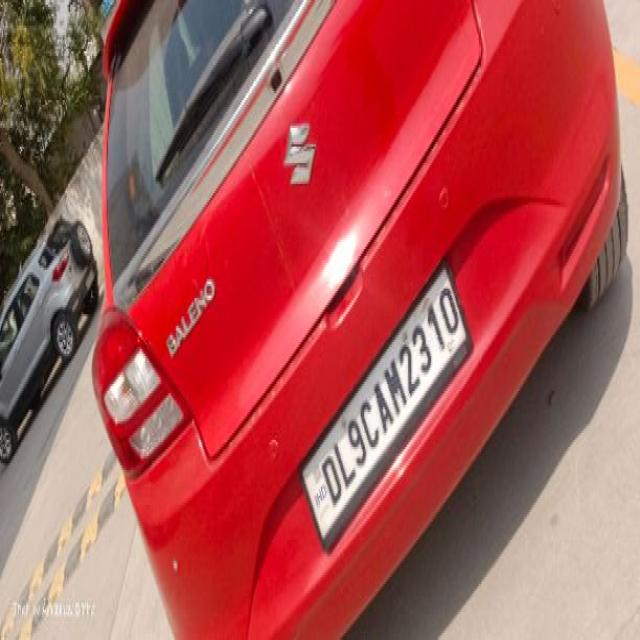license_plate: (298, 256, 473, 552)
